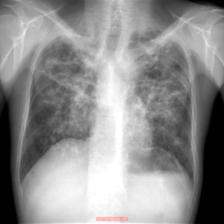tuberculosis: (13, 26, 200, 195)
